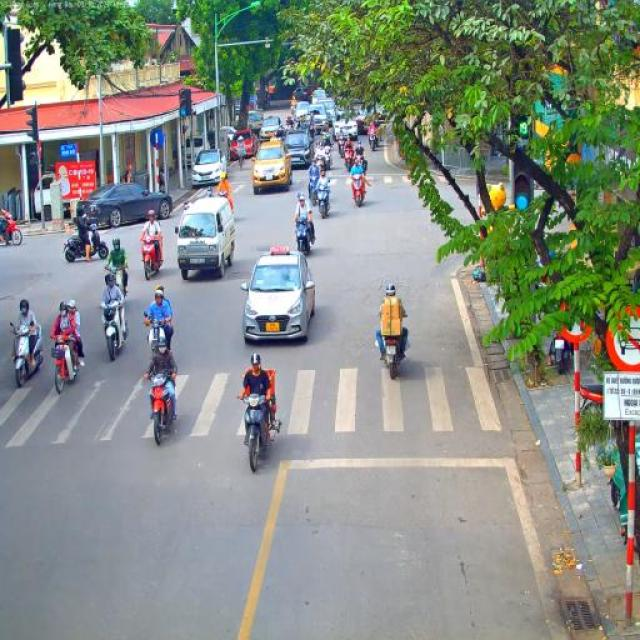car: (239, 246, 317, 345), (76, 182, 174, 228), (250, 140, 292, 195), (191, 148, 228, 191), (283, 129, 315, 170), (230, 130, 260, 160), (333, 108, 358, 143), (259, 116, 286, 145), (355, 104, 381, 132), (220, 125, 239, 163), (305, 104, 327, 136), (320, 96, 338, 125), (246, 110, 264, 138), (294, 100, 310, 124), (293, 86, 315, 103), (312, 89, 328, 102)
motorcycle: (234, 392, 280, 472), (143, 370, 176, 446), (10, 318, 44, 388), (49, 334, 83, 395), (98, 300, 130, 361), (62, 223, 110, 263), (144, 311, 170, 354), (138, 234, 162, 280), (548, 330, 572, 374), (383, 334, 405, 380), (294, 217, 316, 256), (105, 264, 127, 300), (578, 384, 604, 414), (0, 212, 22, 246), (349, 174, 367, 208), (314, 184, 331, 218), (307, 173, 321, 202), (321, 145, 333, 171), (352, 155, 368, 174), (344, 148, 354, 174), (237, 146, 247, 170), (316, 139, 324, 167), (308, 121, 318, 143), (367, 131, 378, 151), (338, 136, 347, 160)
truck: (175, 195, 236, 281), (34, 164, 78, 222)
